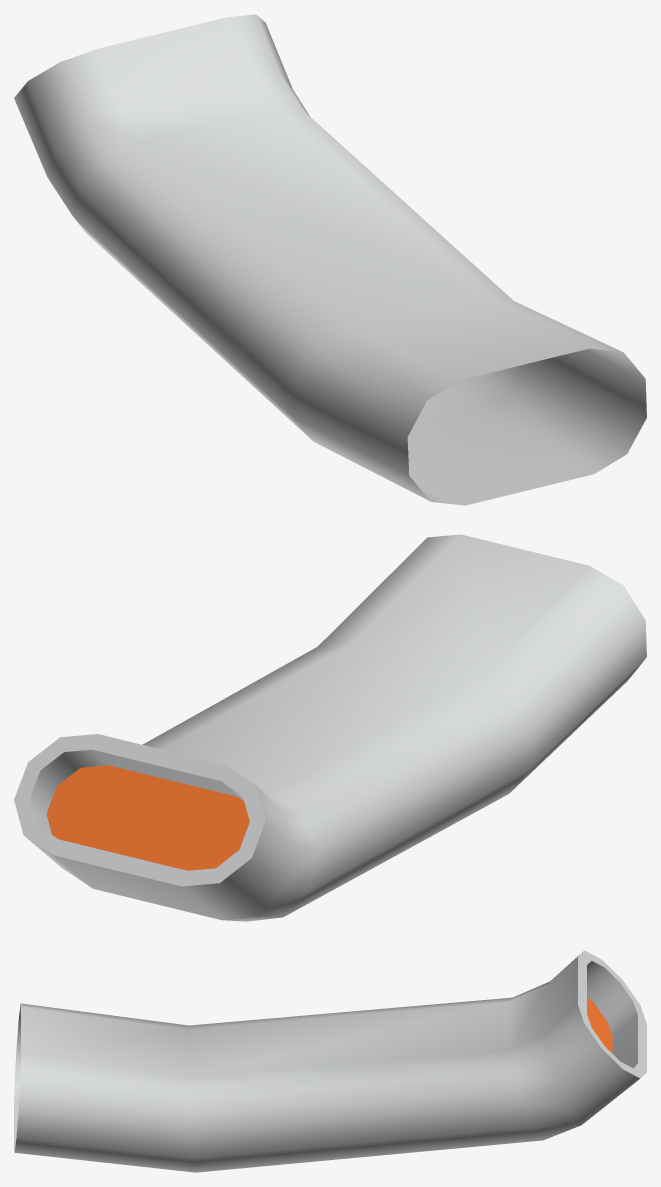
The model's file is Car_09_Pipe_Cool.fbx.
The picture shows the model from 3 angles, top to bottom: view 1: azimuth 30°, elevation 25°; view 2: azimuth 150°, elevation 25°; view 3: azimuth 270°, elevation 25°; orthographic projection. The views are drawn at different scales.
Parts seen in each view (by area): view 1: Car_09_Pipe_Cool; view 2: Car_09_Pipe_Cool; view 3: Car_09_Pipe_Cool.
Boxes of the visible parts, bbox=[...] form: Car_09_Pipe_Cool: bbox=[14, 14, 646, 505]; Car_09_Pipe_Cool: bbox=[14, 534, 646, 921]; Car_09_Pipe_Cool: bbox=[14, 950, 646, 1172].
Bounding box in the file's own units: 31.88 × 95.63 × 27.33.
